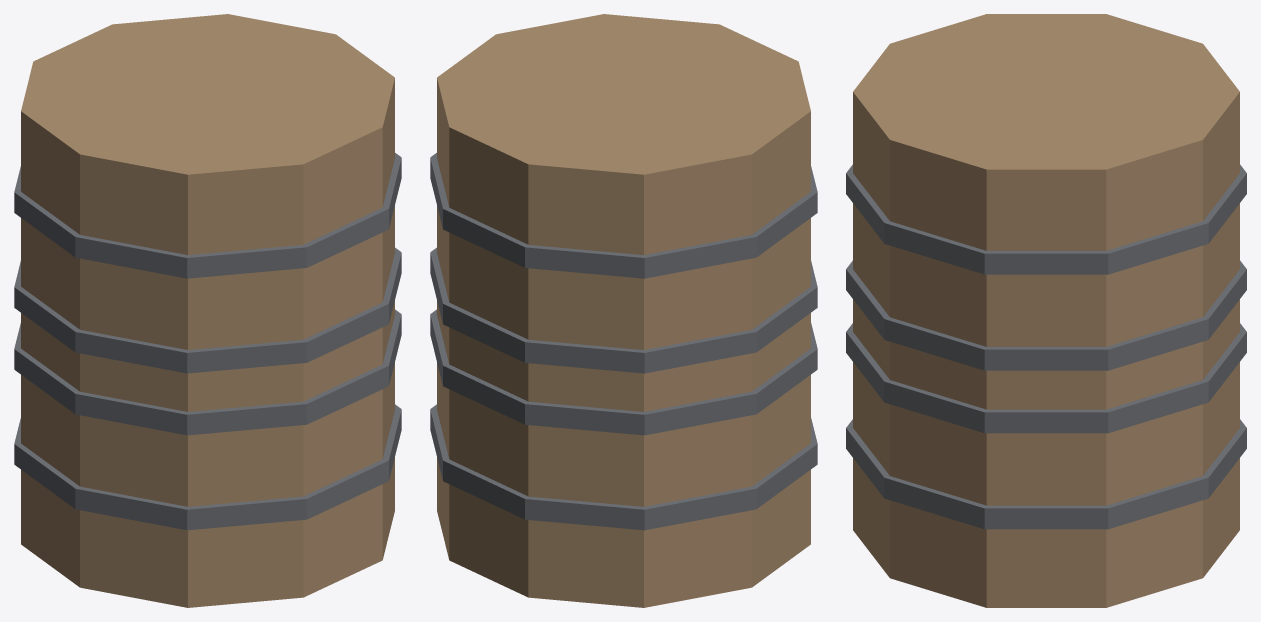
The model's file is wooden_barrel.glb.
The picture shows the model from 3 angles, left to right: view 1: azimuth 30°, elevation 25°; view 2: azimuth 150°, elevation 25°; view 3: azimuth 270°, elevation 25°; orthographic projection.
Visible parts, largest first — view 1: WoodenBarrel; view 2: WoodenBarrel; view 3: WoodenBarrel.
Boxes of the visible parts, box(x1,y1,x2,y2) form: WoodenBarrel: box(14, 14, 401, 607); WoodenBarrel: box(430, 14, 817, 607); WoodenBarrel: box(846, 14, 1246, 607).
Size of the model in its own units: 0.8274 by 1.05 by 0.87.
